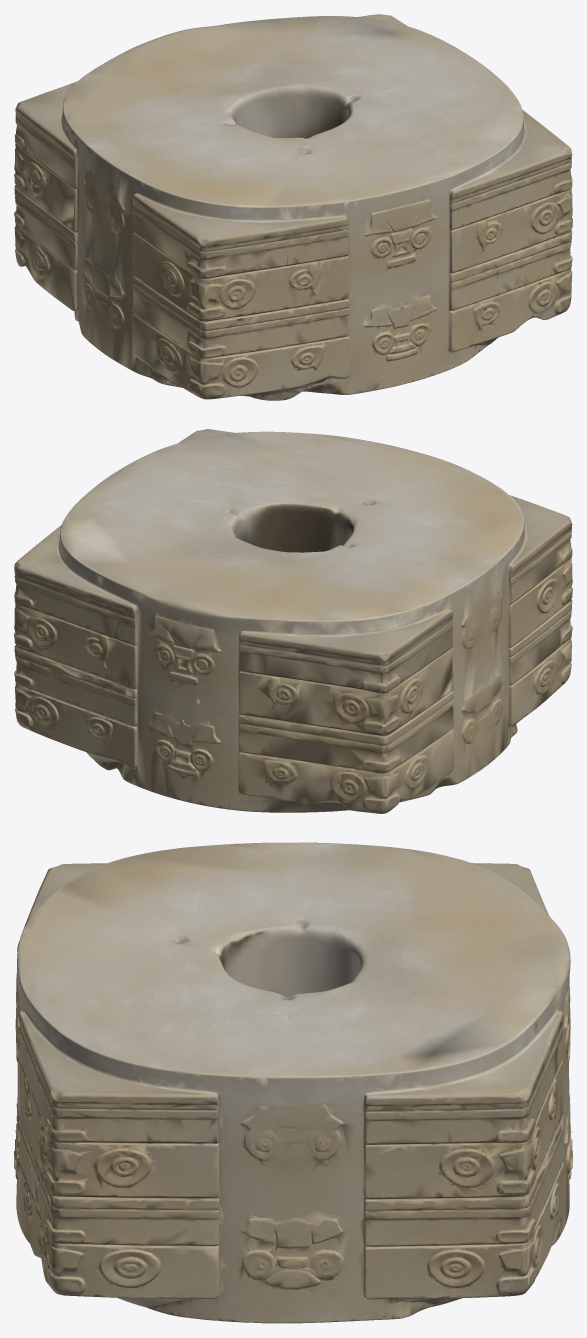
The model's file is liangzhu-king-detail.glb.
3 views of the same model, one above another, from view 1: azimuth 30°, elevation 25°; view 2: azimuth 150°, elevation 25°; view 3: azimuth 270°, elevation 25° (orthographic). The views are drawn at different scales.
Parts seen in each view (by area): view 1: node_0; view 2: node_0; view 3: node_0.
Part boxes in pixels (box(x1,y1,x2,y2)): node_0: box(14, 14, 572, 400); node_0: box(14, 429, 572, 813); node_0: box(14, 842, 572, 1323).
Size of the model in its own units: 0.8921 by 0.4459 by 0.8884.
1 material, 1 textured.
